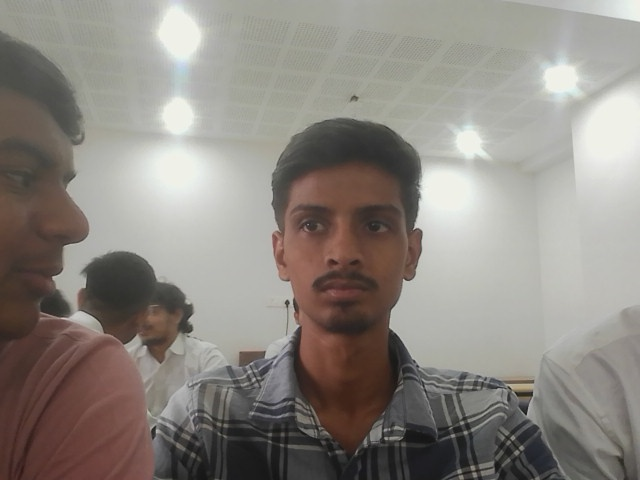light_on: (378, 172, 489, 278), (530, 53, 588, 102), (151, 87, 204, 133), (446, 120, 490, 163), (629, 6, 640, 25)
person: (252, 126, 478, 461), (0, 25, 159, 478), (530, 299, 639, 479), (128, 279, 238, 416)
